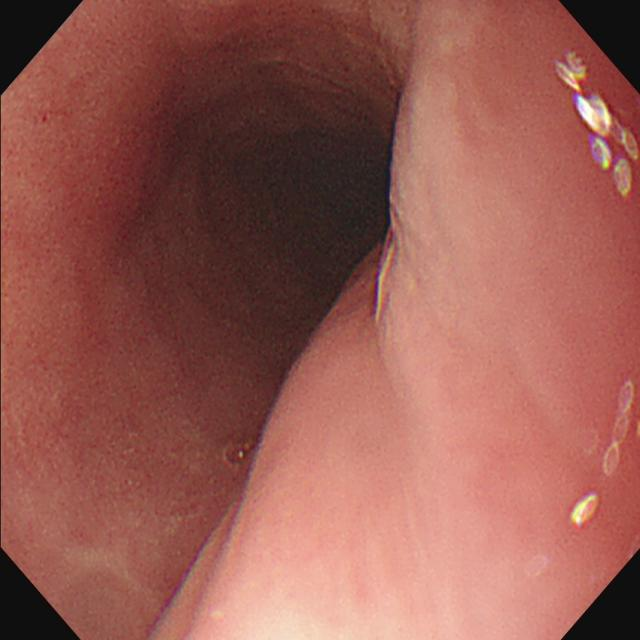E: (218, 97, 401, 288)
T: (222, 439, 263, 468)
U: (555, 51, 637, 198), (569, 383, 636, 529)
